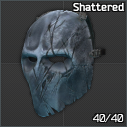Shattered light armored mask: (0, 0, 127, 127)
